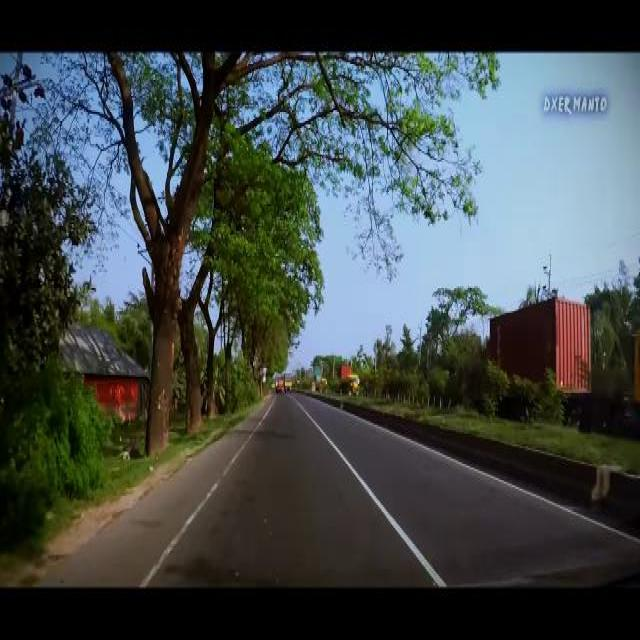truck: (284, 372, 292, 392)
